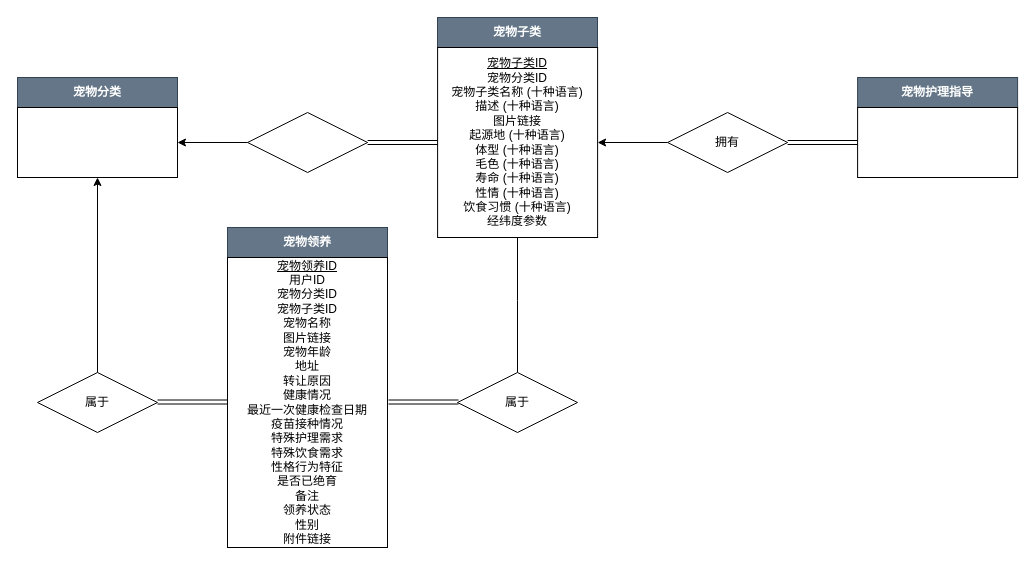
The diagram is 1036 pixels wide and 565 high, and some of its shapes have lost their labels. Here are the shapes that lost their labels. From the top down, the centre of each, then its label:
At point (97, 142): "宠物分类ID 宠物分类名称 (十种语言) 描述 (十种语言) 图片链接".
At point (307, 142): "包含".
At point (937, 142): "宠物护理指导ID 宠物子类ID 标题 (十种语言) 内容 (十种语言)".
